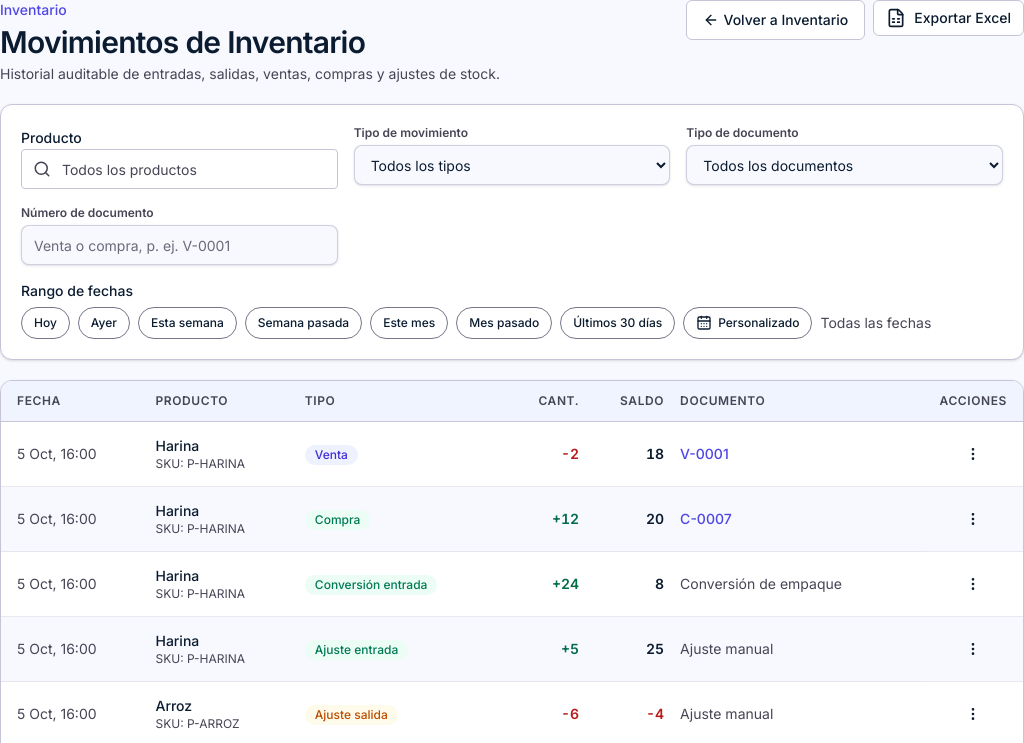
Test: InventoryMovementsPage · filtros en servidor y en la URL › filtro de producto › searches products on the server while typing, without loading the catalogue
Type "har" into the dropdown labelled "Producto" at (179, 169), box [21, 149, 338, 189]
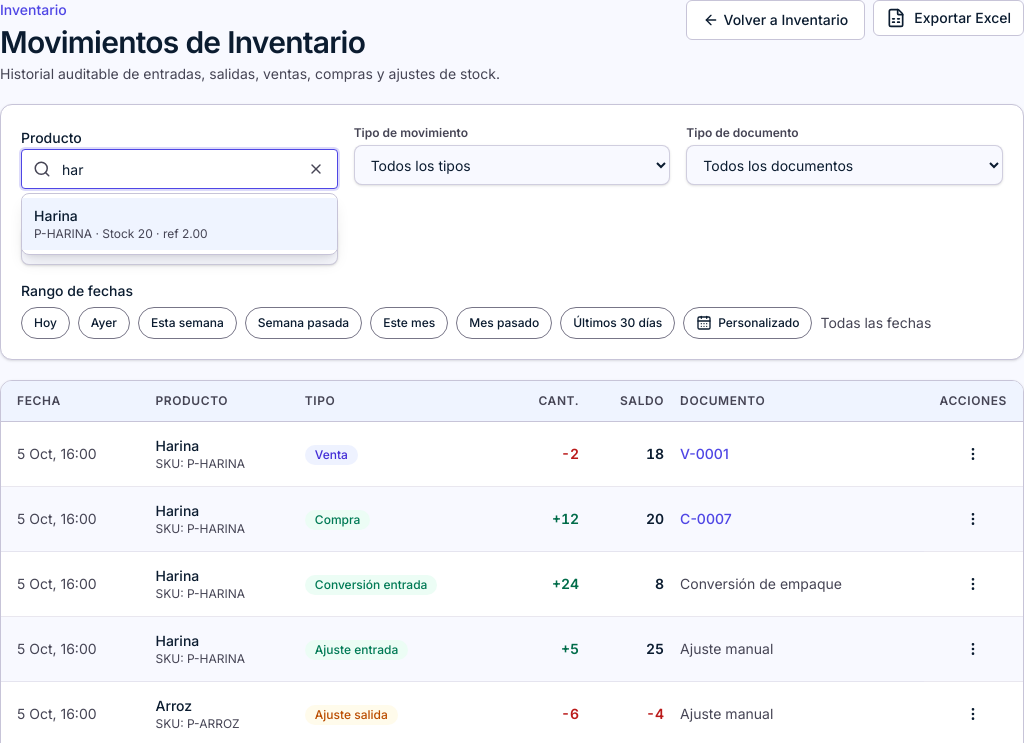
Click the option "Harina P-HARINA · Stock 20 · ref 2.00" at (179, 224), box [22, 198, 337, 250]
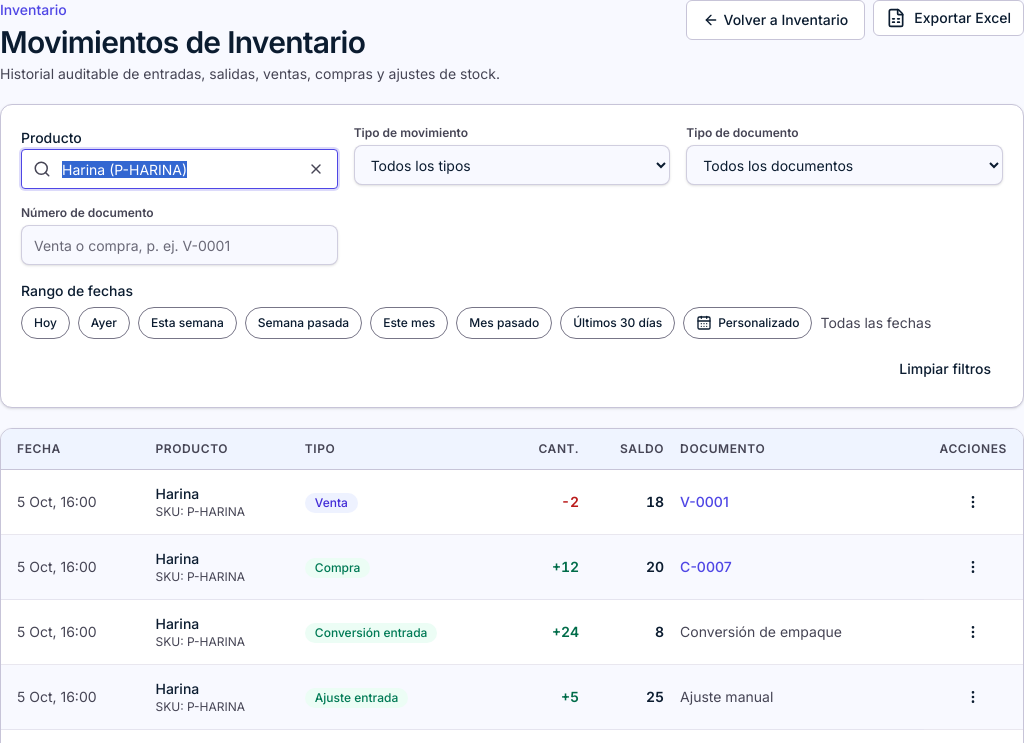
Check: the dropdown labelled "Producto" holds "Harina (P-HARINA)", box [21, 149, 338, 189]
